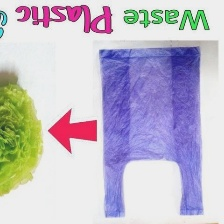plastic_bag: (95, 43, 208, 220)
